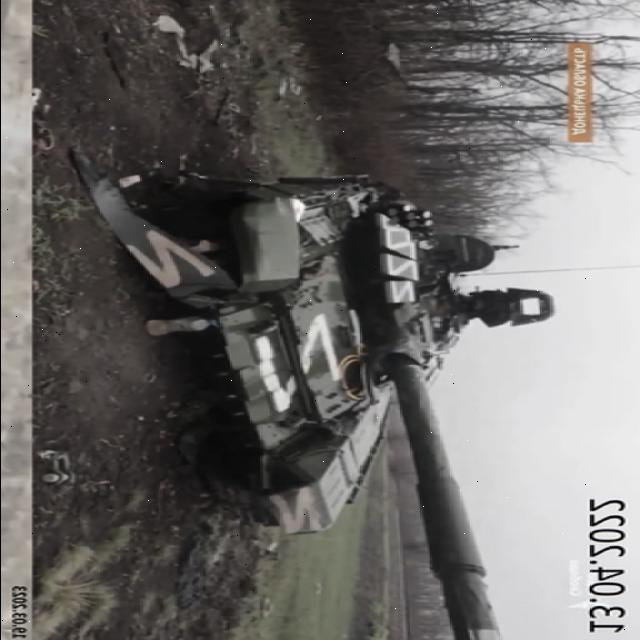TANK: (138, 176, 558, 640)
